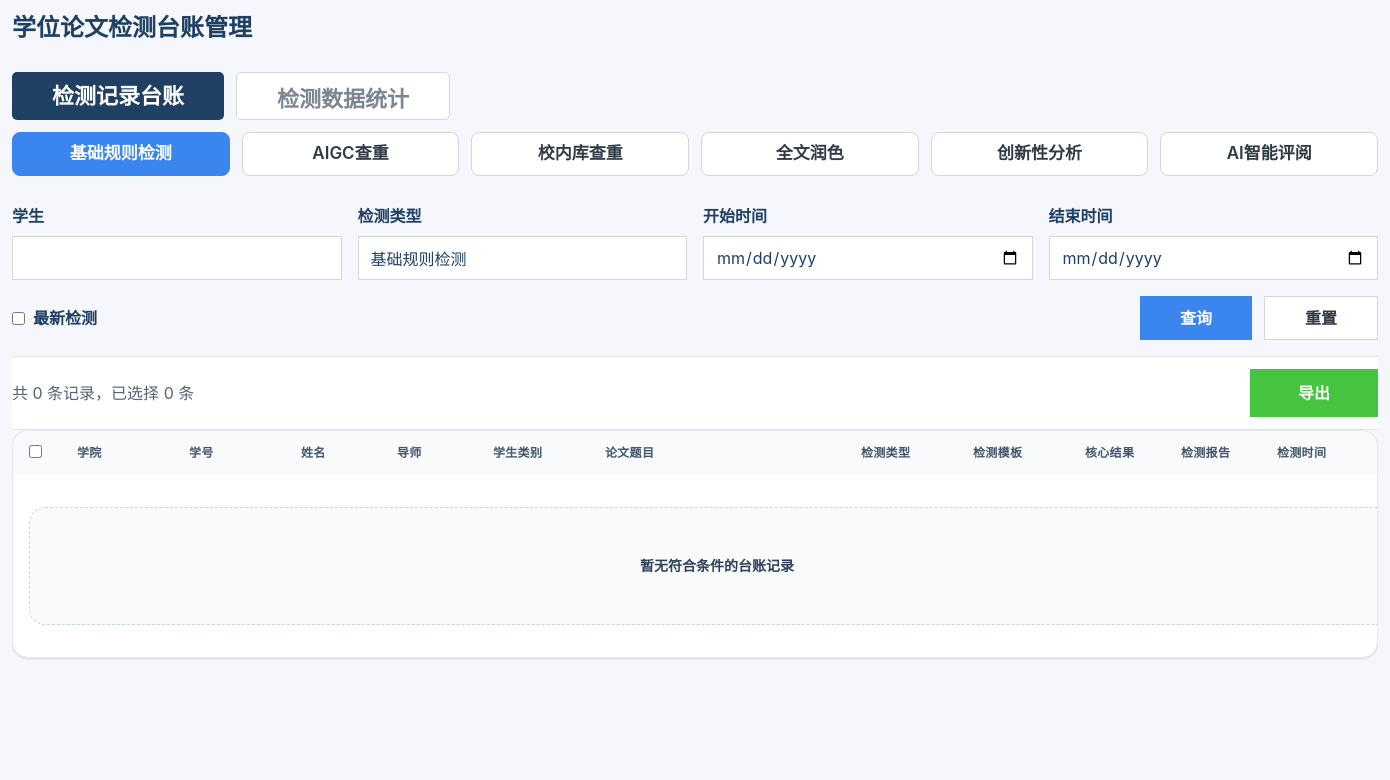
Scenario: FEAT-LEDGER-RECORDS ledger page contract › FEAT-LEDGER-RECORDS:UI:EMPTY:001 shows explicit empty and error states without fallback rows
Expected: the text "暂无符合条件的台账记录" is shown, [640, 556, 794, 576]
Expected: the text "共 0 条记录，已选择 0 条" is shown, [12, 381, 194, 405]
Click the button "查询" at (1196, 318), box [1140, 296, 1252, 340]
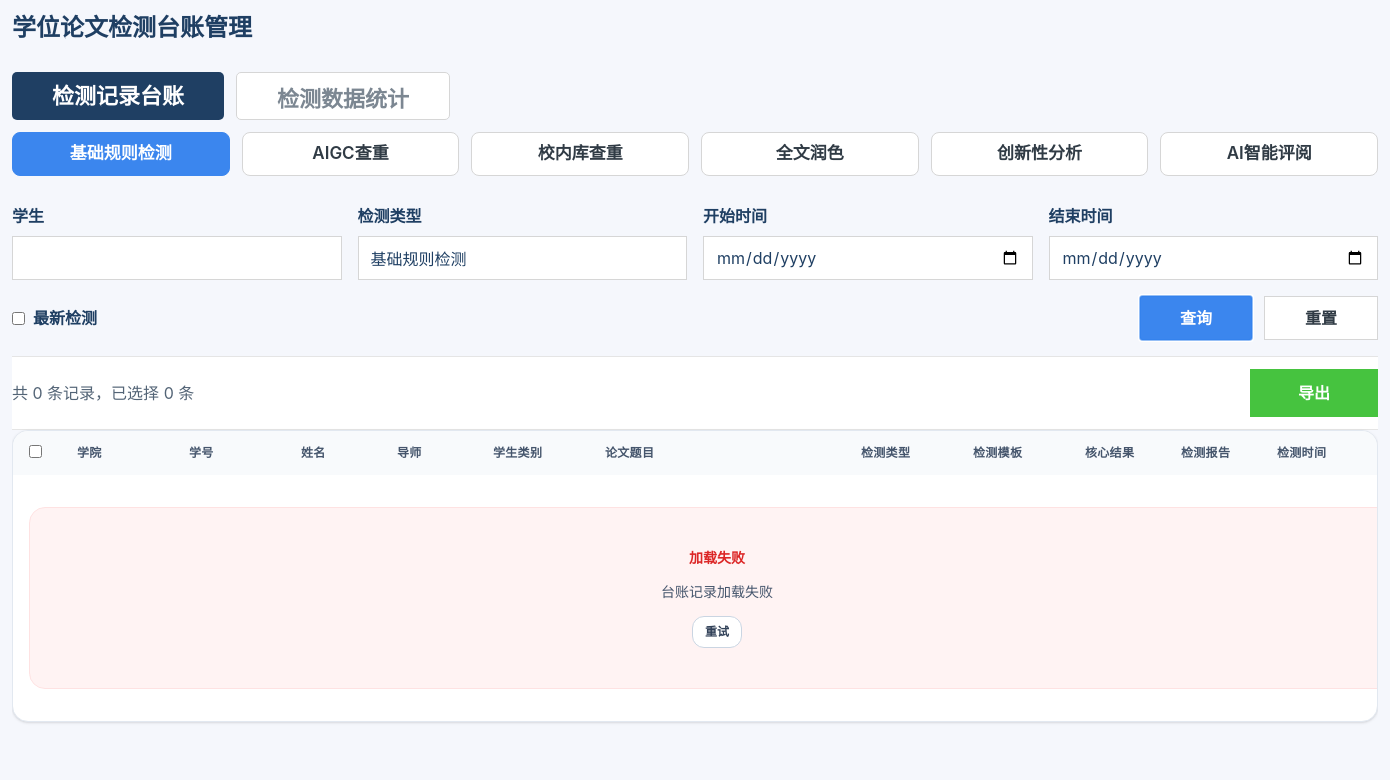
Expected: the text "台账记录加载失败" is shown, [661, 580, 773, 604]
